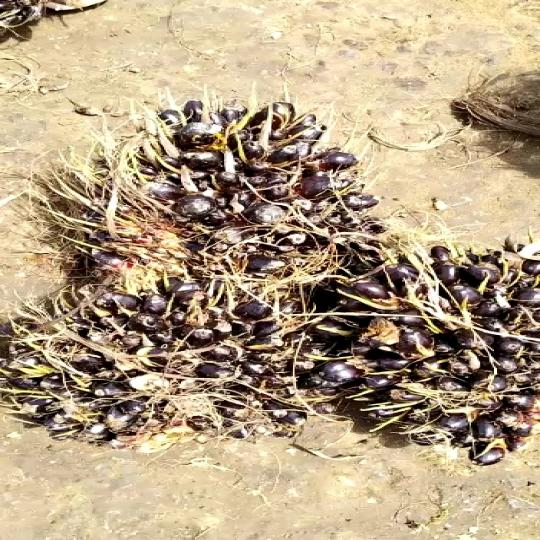mentah: (0, 261, 312, 467), (63, 96, 393, 271), (306, 248, 538, 466)
